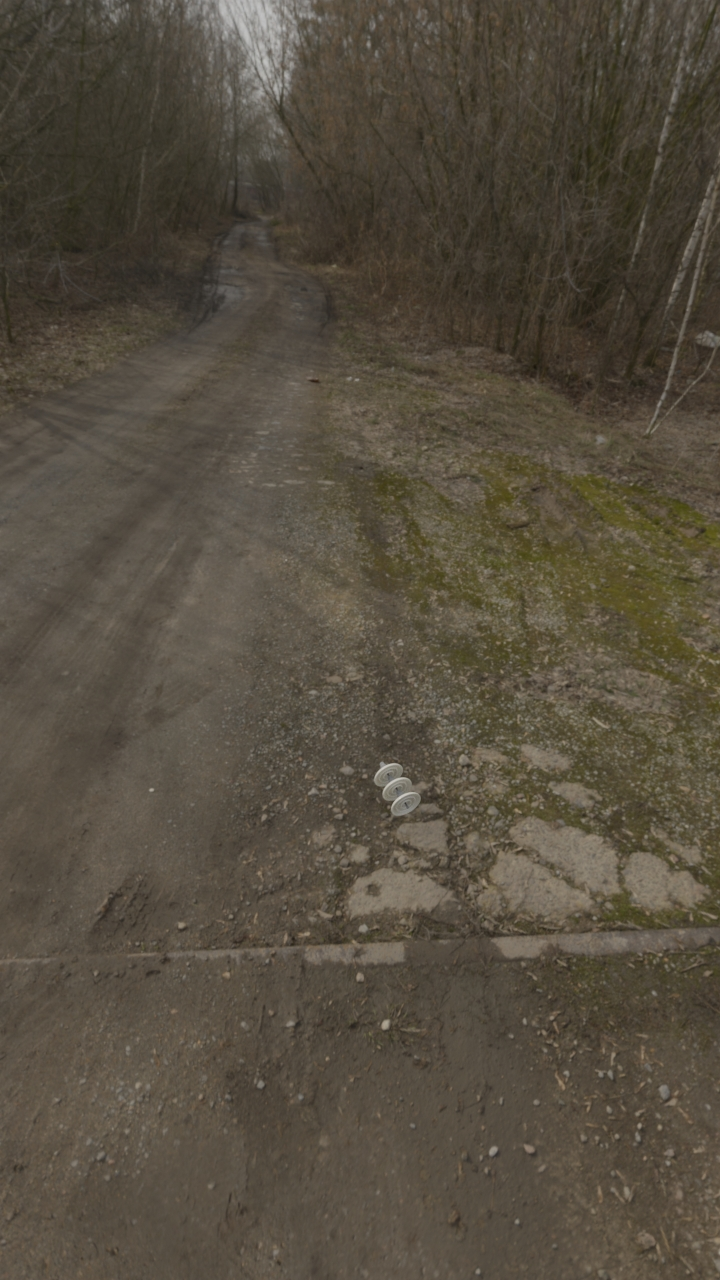ceramicinsulators: (374, 761, 421, 816)
